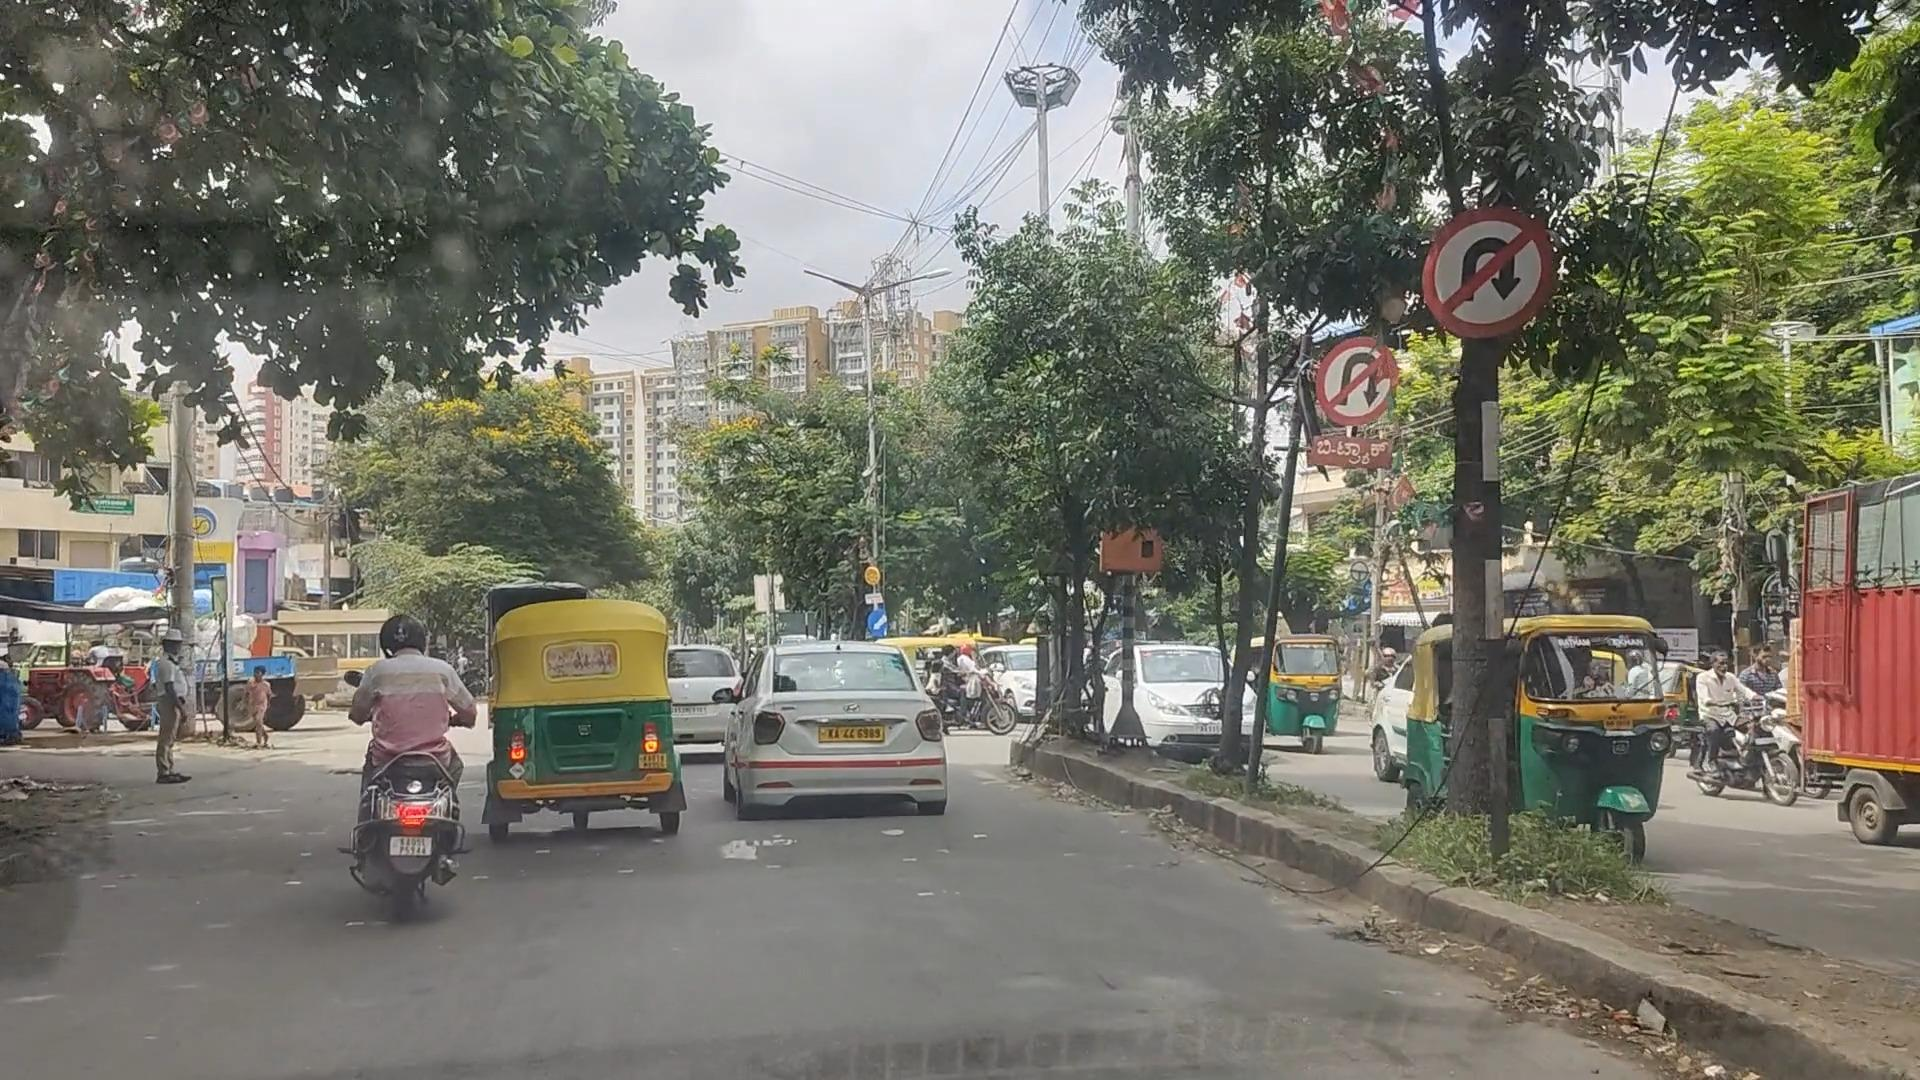LMV: (464, 618, 679, 841), (745, 634, 951, 803), (348, 620, 472, 898)
RoadDamages: (634, 811, 860, 890)
